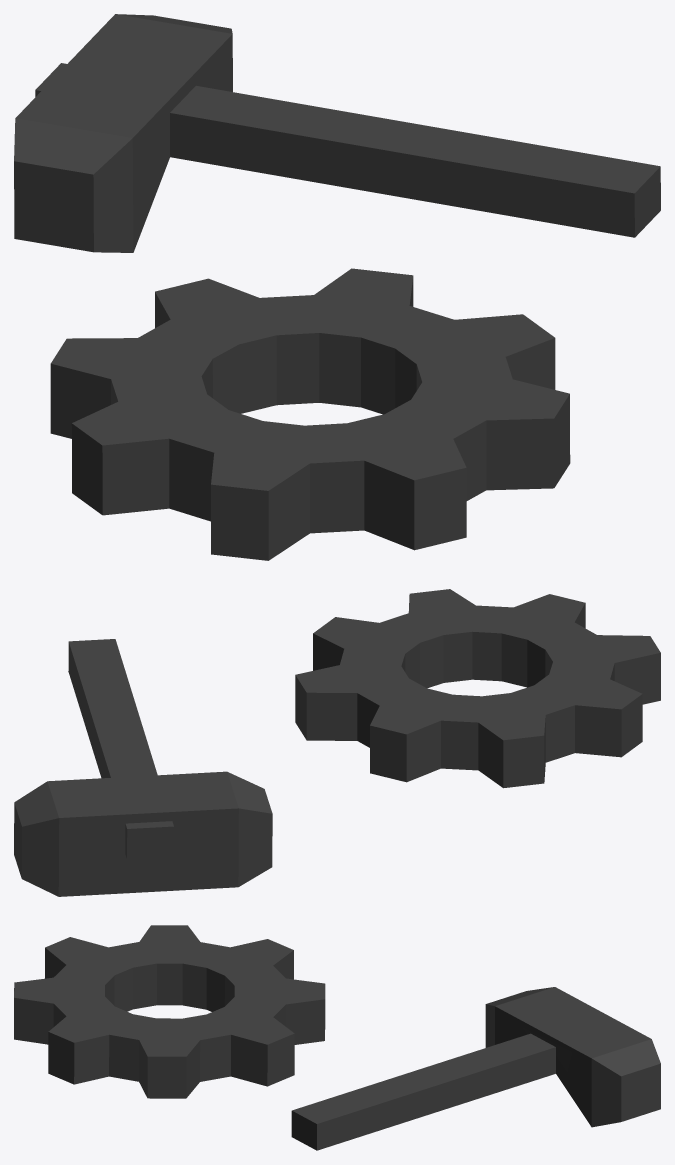
File: Gear_hammer(stone_slab).fbx
The picture shows the model from 3 angles, top to bottom: view 1: azimuth 30°, elevation 25°; view 2: azimuth 150°, elevation 25°; view 3: azimuth 270°, elevation 25°; orthographic projection. The views are drawn at different scales.
Parts seen in each view (by area): view 1: gear_big, hammer; view 2: gear_big, hammer; view 3: gear_big, hammer.
Part boxes in pixels (left/top/right/bottom): gear_big: left=50, top=268, right=570, bottom=560; hammer: left=14, top=14, right=660, bottom=252; gear_big: left=295, top=589, right=660, bottom=788; hammer: left=14, top=639, right=272, bottom=896; gear_big: left=14, top=925, right=325, bottom=1098; hammer: left=291, top=987, right=660, bottom=1150.
Size of the model in its own units: 66.59 by 10.63 by 89.41.
